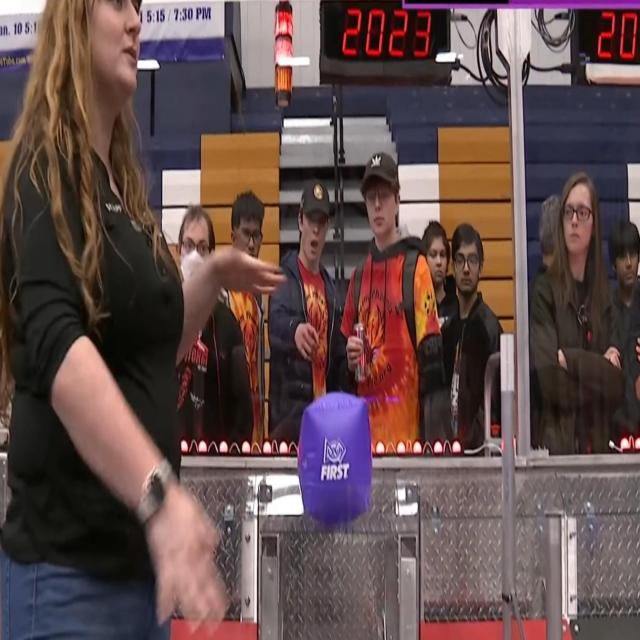frc_cube: (298, 392, 373, 527)
